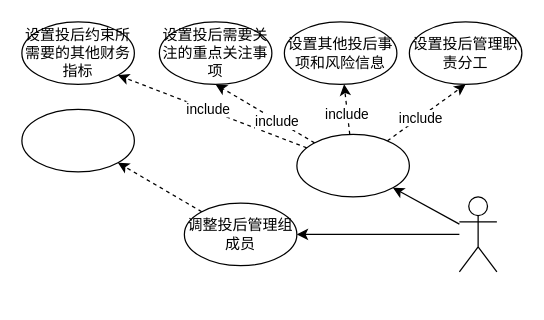
Image size: 544x320. Some labels were removed from this diagram. The centre of each missing label's shape, as x and y in pixels:
"创建投后管理方案" belongs at (352,165).
"投资经理" belongs at (477,234).
"设置投后管理组成员" belongs at (77,140).
